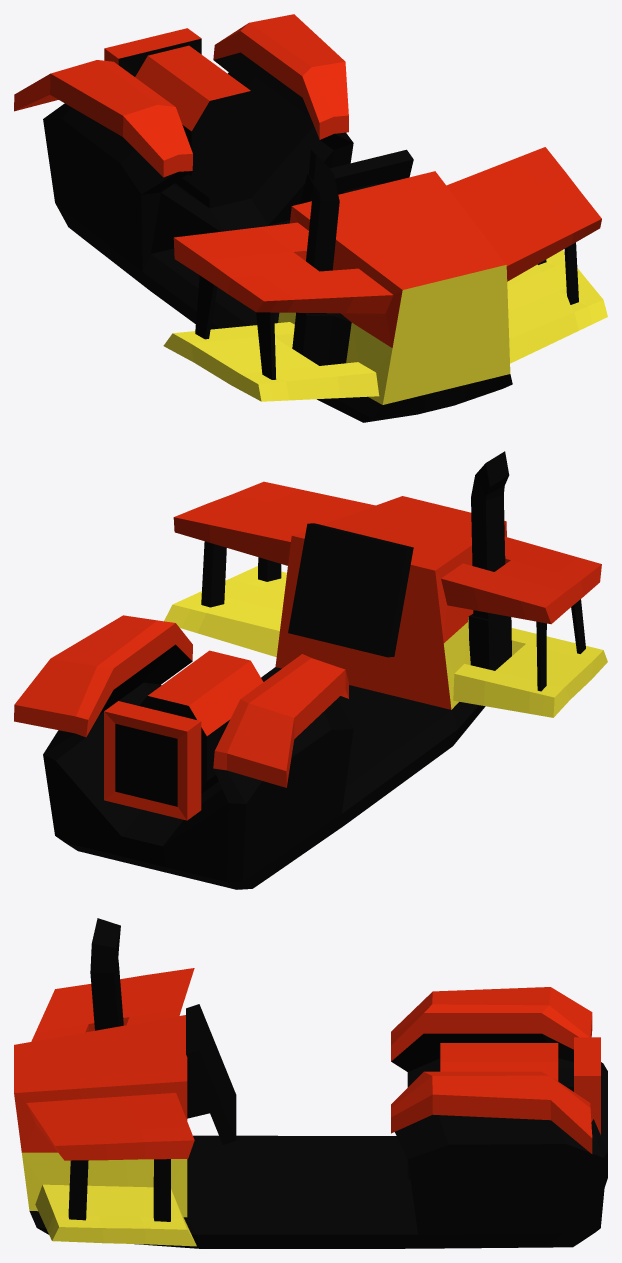
File: Tractor_Air.fbx
3 views of the same model, one above another, from view 1: azimuth 30°, elevation 25°; view 2: azimuth 150°, elevation 25°; view 3: azimuth 270°, elevation 25° (orthographic). The views are drawn at different scales.
Parts seen in each view (by area): view 1: Tractor_Air; view 2: Tractor_Air; view 3: Tractor_Air.
Part boxes in pixels (x1=…): Tractor_Air: x1=14, y1=14, x2=607, y2=422; Tractor_Air: x1=14, y1=451, x2=607, y2=889; Tractor_Air: x1=14, y1=918, x2=607, y2=1248.
Bounding box in the file's own units: 103 × 142 × 65.08.
